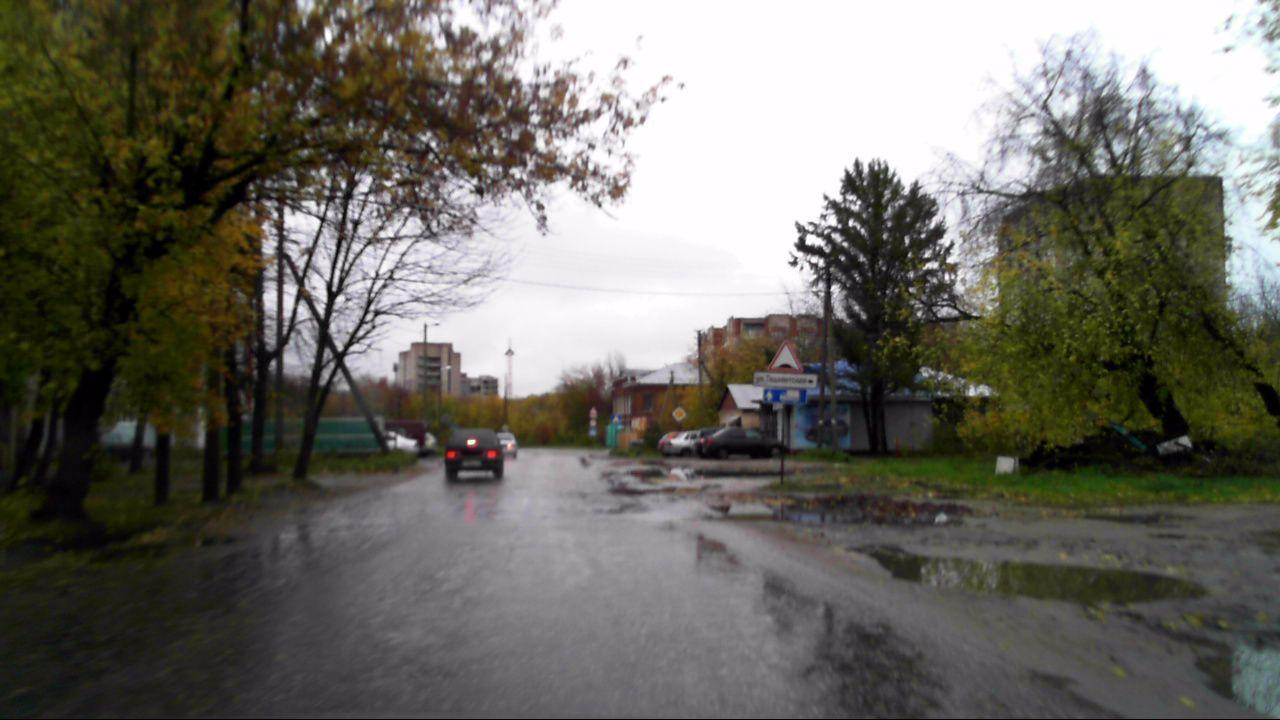1_17: (767, 340, 802, 373)
2_1: (671, 407, 688, 421)
5_20: (611, 414, 621, 424)
6_10_1: (755, 372, 817, 390)
6_15_1: (764, 389, 807, 403)
